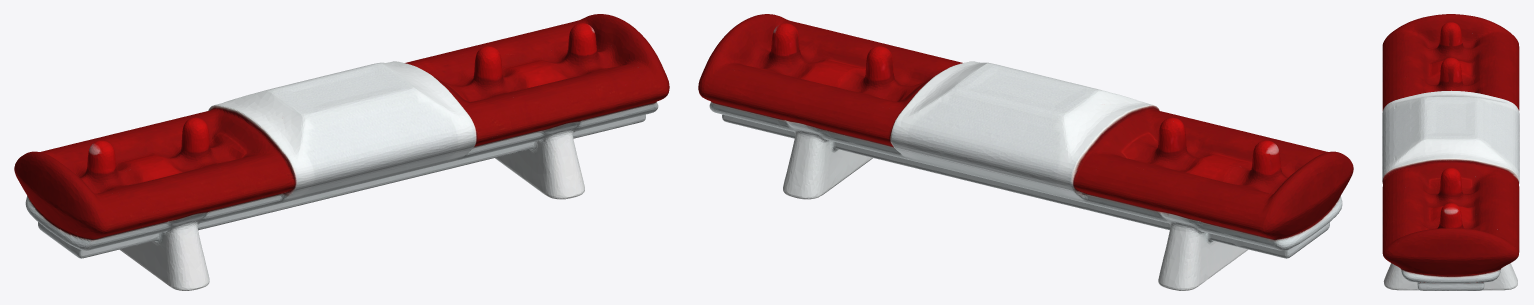
Rendered from lightbar.glb.
3 views of the same model, side by side, from view 1: azimuth 30°, elevation 25°; view 2: azimuth 150°, elevation 25°; view 3: azimuth 270°, elevation 25° (orthographic). The views are drawn at different scales.
Parts seen in each view (by area): view 1: barL, barR, barC; view 2: barL, barR, barC; view 3: barR, barL, barC.
Part boxes in pixels (x1,y1,x2,y2): barL: (14, 91, 330, 290); barR: (380, 14, 669, 199); barC: (262, 63, 447, 204); barL: (1037, 91, 1353, 290); barR: (698, 14, 986, 199); barC: (919, 62, 1106, 204); barR: (1382, 139, 1519, 290); barL: (1382, 14, 1519, 125); barC: (1382, 96, 1519, 169).
Bounding box in the file's own units: 1.9 × 0.3941 × 0.492.
Materials: 3 (3 with a texture image).
